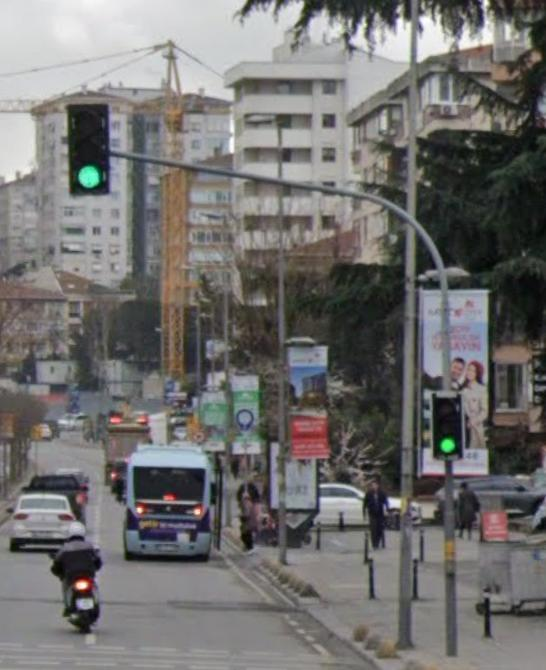greenlight: (65, 101, 113, 197), (433, 396, 463, 458)
